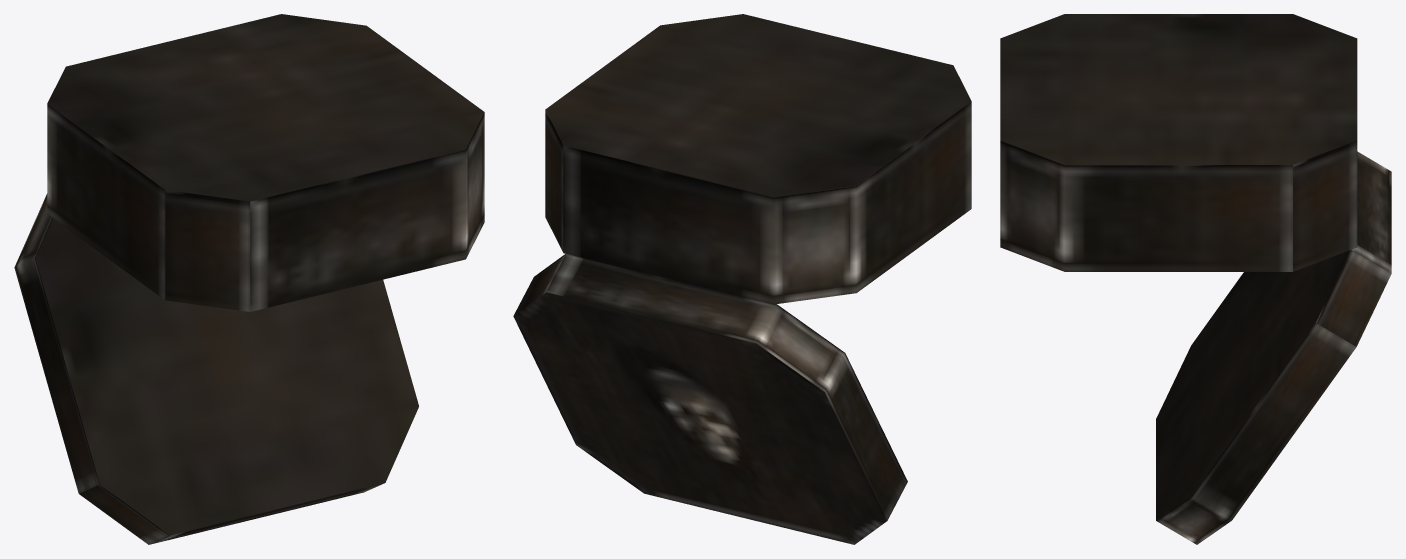
The model's file is compass_high.fbx.
3 renders of one model, left to right at view 1: azimuth 30°, elevation 25°; view 2: azimuth 150°, elevation 25°; view 3: azimuth 270°, elevation 25°, orthographic. The views are drawn at different scales.
Parts seen in each view (by area): view 1: compass_bot, compass_top; view 2: compass_bot, compass_top; view 3: compass_bot, compass_top.
Boxes of the visible parts, x1=… form: compass_bot: x1=47, y1=14, x2=484, y2=311; compass_top: x1=14, y1=193, x2=418, y2=544; compass_bot: x1=545, y1=14, x2=971, y2=304; compass_top: x1=513, y1=254, x2=907, y2=544; compass_bot: x1=1000, y1=14, x2=1357, y2=271; compass_top: x1=1156, y1=151, x2=1391, y2=544.
Size of the model in its own units: 19.21 by 24 by 21.05.
Materials: 1 (1 with a texture image).
